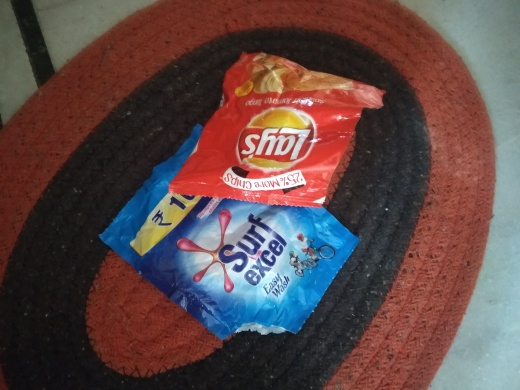lays: (192, 49, 387, 213)
surf: (102, 131, 368, 335)
